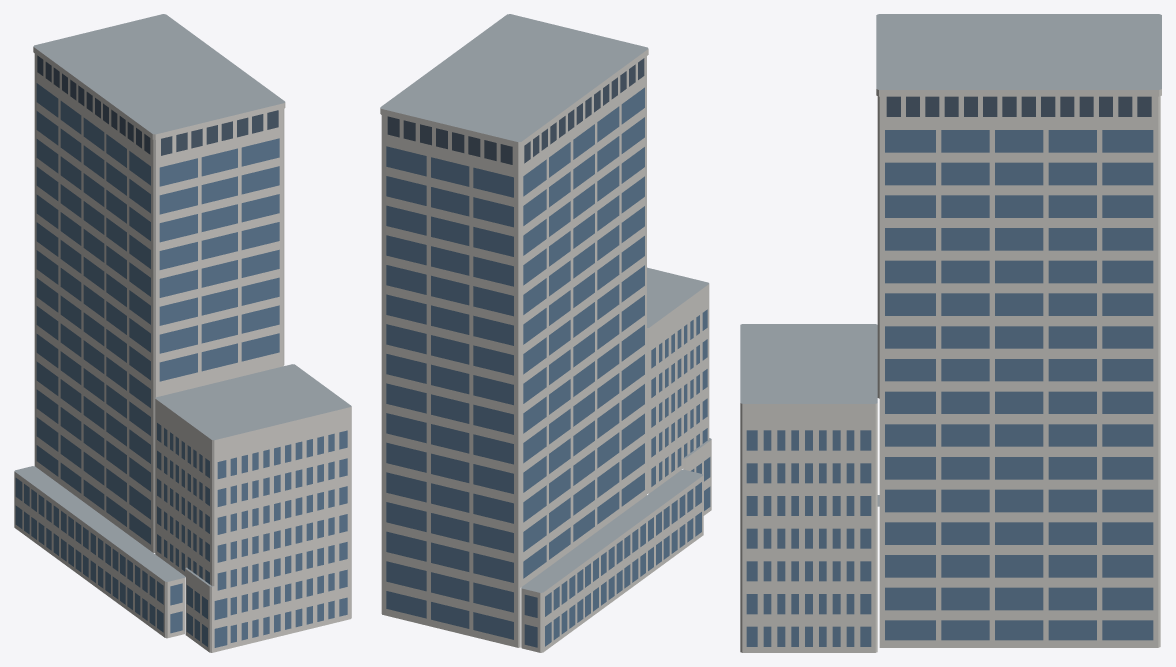
File: msp-us-bancorp-center.glb
3 renders of one model, left to right at view 1: azimuth 30°, elevation 25°; view 2: azimuth 150°, elevation 25°; view 3: azimuth 270°, elevation 25°, orthographic. The views are drawn at different scales.
Visible parts, largest first — view 1: U.S. Bancorp Center; view 2: U.S. Bancorp Center; view 3: U.S. Bancorp Center.
Part boxes in pixels (x1,y1,x2,y2): U.S. Bancorp Center: [14, 14, 351, 652]; U.S. Bancorp Center: [380, 14, 711, 652]; U.S. Bancorp Center: [740, 14, 1161, 652].
Bounding box in the file's own units: 50.7 × 144 × 98.25.
